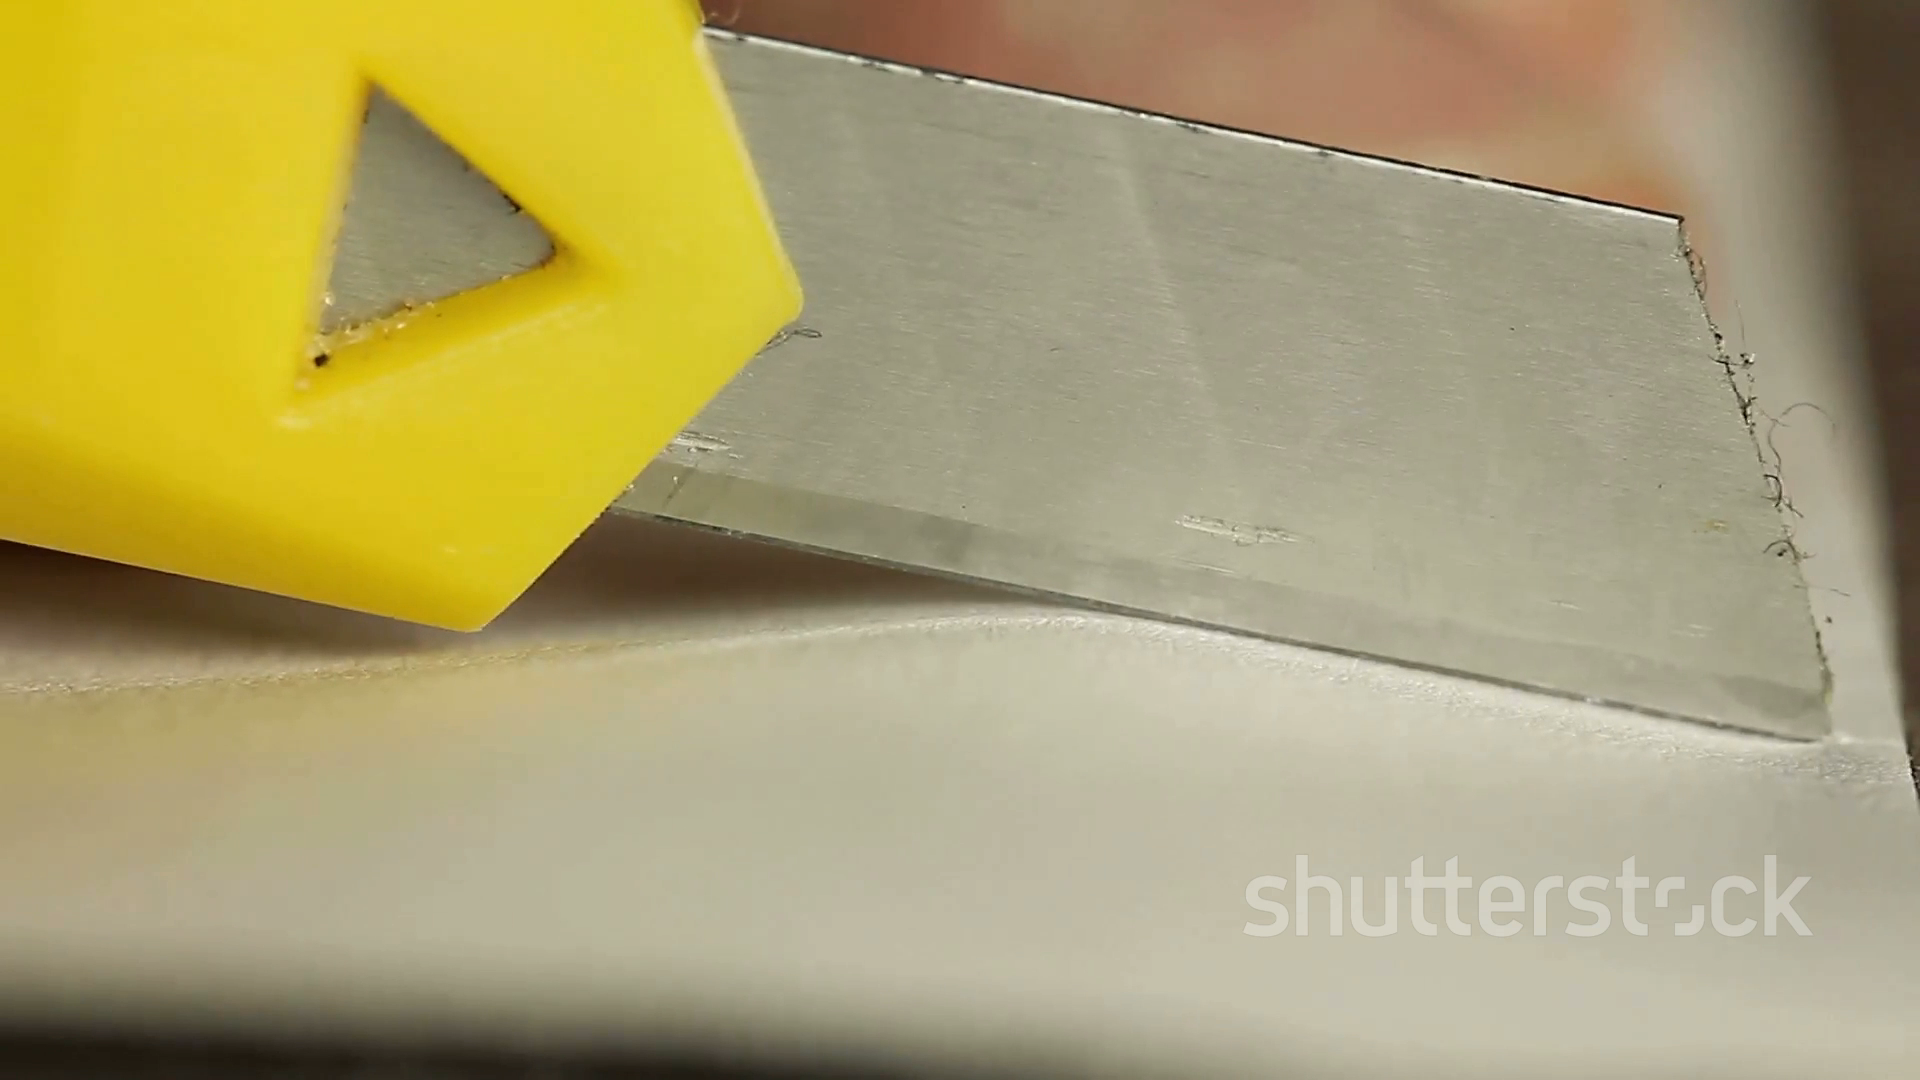cortante: (613, 25, 1830, 738)
